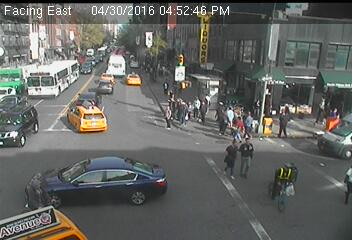neg: (265, 156, 303, 208), (94, 195, 119, 228), (310, 144, 333, 175), (69, 146, 92, 176), (257, 8, 279, 37), (19, 134, 39, 161), (139, 22, 158, 47), (168, 142, 187, 167), (226, 37, 244, 61), (127, 153, 145, 177), (312, 36, 330, 60), (190, 19, 207, 41), (3, 14, 20, 36), (120, 92, 136, 113), (27, 95, 42, 115), (160, 195, 175, 215), (68, 54, 83, 74), (24, 195, 39, 215), (67, 14, 81, 34), (101, 56, 115, 75), (130, 119, 143, 137), (108, 9, 119, 24), (46, 77, 57, 91), (75, 107, 85, 121), (130, 71, 139, 83)
pos: (232, 137, 262, 177), (218, 137, 247, 175), (272, 106, 295, 137), (310, 93, 333, 124), (159, 104, 178, 129), (173, 98, 191, 122), (216, 110, 233, 132), (230, 102, 246, 124), (327, 105, 343, 126), (243, 110, 259, 131), (212, 100, 227, 122), (189, 95, 204, 115), (232, 115, 247, 134), (197, 101, 211, 119), (184, 99, 196, 115), (166, 91, 178, 107), (160, 78, 171, 93), (203, 93, 213, 107)
